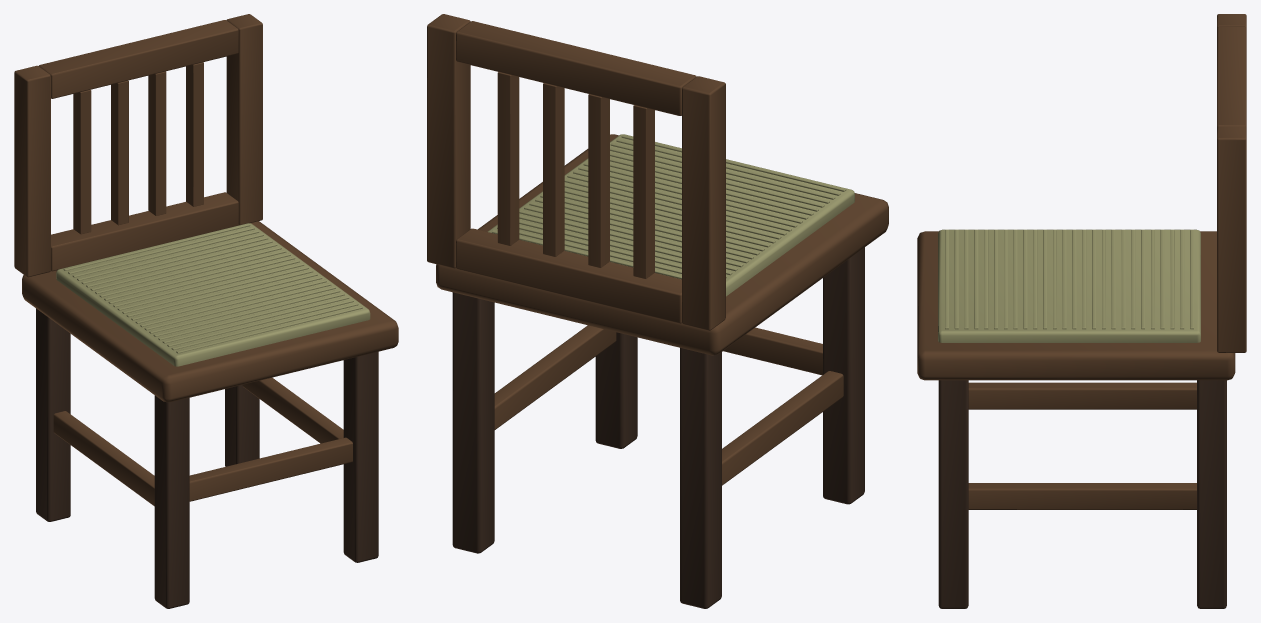
The model's file is kominka-chair-01.glb.
The picture shows the model from 3 angles, left to right: view 1: azimuth 30°, elevation 25°; view 2: azimuth 150°, elevation 25°; view 3: azimuth 270°, elevation 25°; orthographic projection. The views are drawn at different scales.
Visible parts, largest first — view 1: kominka-chair-01; view 2: kominka-chair-01; view 3: kominka-chair-01.
Part boxes in pixels (box(x1,y1,x2,y2)): kominka-chair-01: box(14, 14, 398, 608); kominka-chair-01: box(427, 14, 888, 608); kominka-chair-01: box(917, 14, 1246, 608).
Size of the model in its own units: 0.45 by 0.8 by 0.5.
